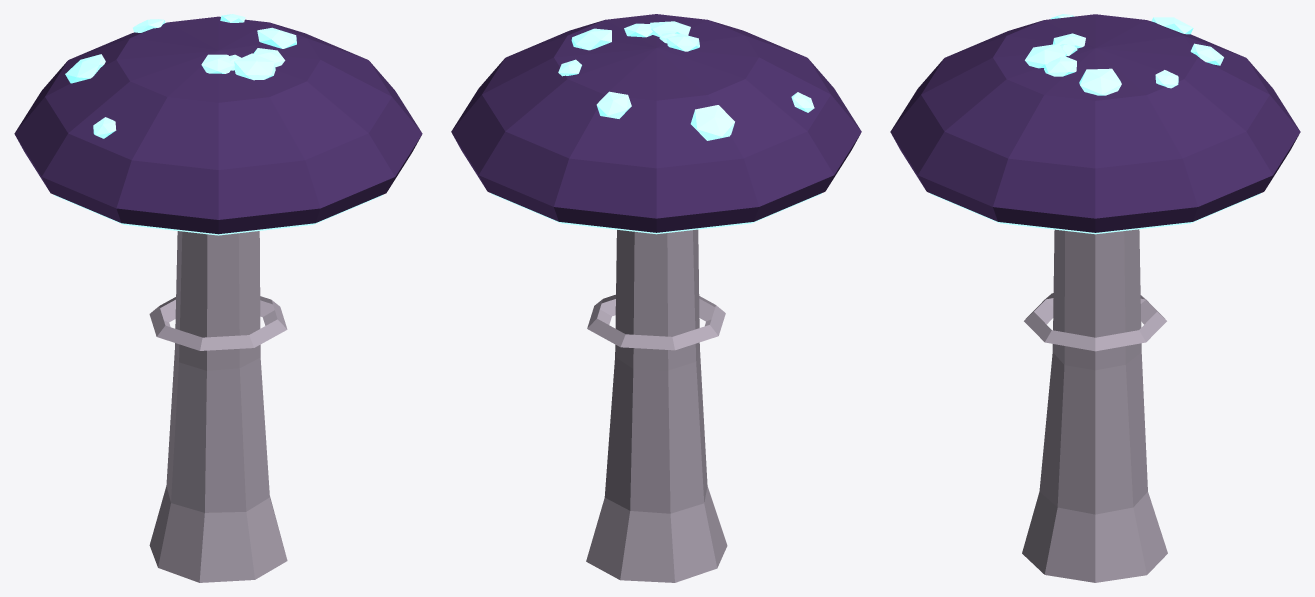
The model's file is champignon_geant_violet_modele.glb.
3 renders of one model, left to right at view 1: azimuth 30°, elevation 25°; view 2: azimuth 150°, elevation 25°; view 3: azimuth 270°, elevation 25°, orthographic.
Visible parts, largest first — view 1: L5.003, L1.007, L3.004, P17.014, P14.017, P11.017, L7.004, P16.019; view 2: L5.003, L1.007, L3.004, P14.017, P13.016, P11.017, L7.004; view 3: L5.003, L1.007, L3.004, P11.017, P17.014, L7.004.
Part boxes in pixels (x1,y1,x2,y2): L5.003: (14, 16, 422, 234); L1.007: (149, 231, 287, 582); L3.004: (149, 296, 287, 350); P17.014: (234, 53, 275, 80); P14.017: (65, 54, 105, 83); P11.017: (257, 27, 296, 48); L7.004: (54, 195, 382, 235); P16.019: (201, 54, 233, 73); L5.003: (451, 14, 861, 232); L1.007: (586, 229, 727, 582); L3.004: (587, 294, 725, 350); P14.017: (690, 105, 734, 140); P13.016: (596, 91, 631, 118); P11.017: (571, 28, 611, 50); L7.004: (491, 193, 821, 234); L5.003: (890, 14, 1300, 232); L1.007: (1022, 229, 1167, 582); L3.004: (1024, 293, 1166, 351); P11.017: (1079, 68, 1121, 95); P17.014: (1025, 43, 1066, 68); L7.004: (930, 193, 1260, 234).
Size of the model in its own units: 2.4 by 3.29 by 2.4.
